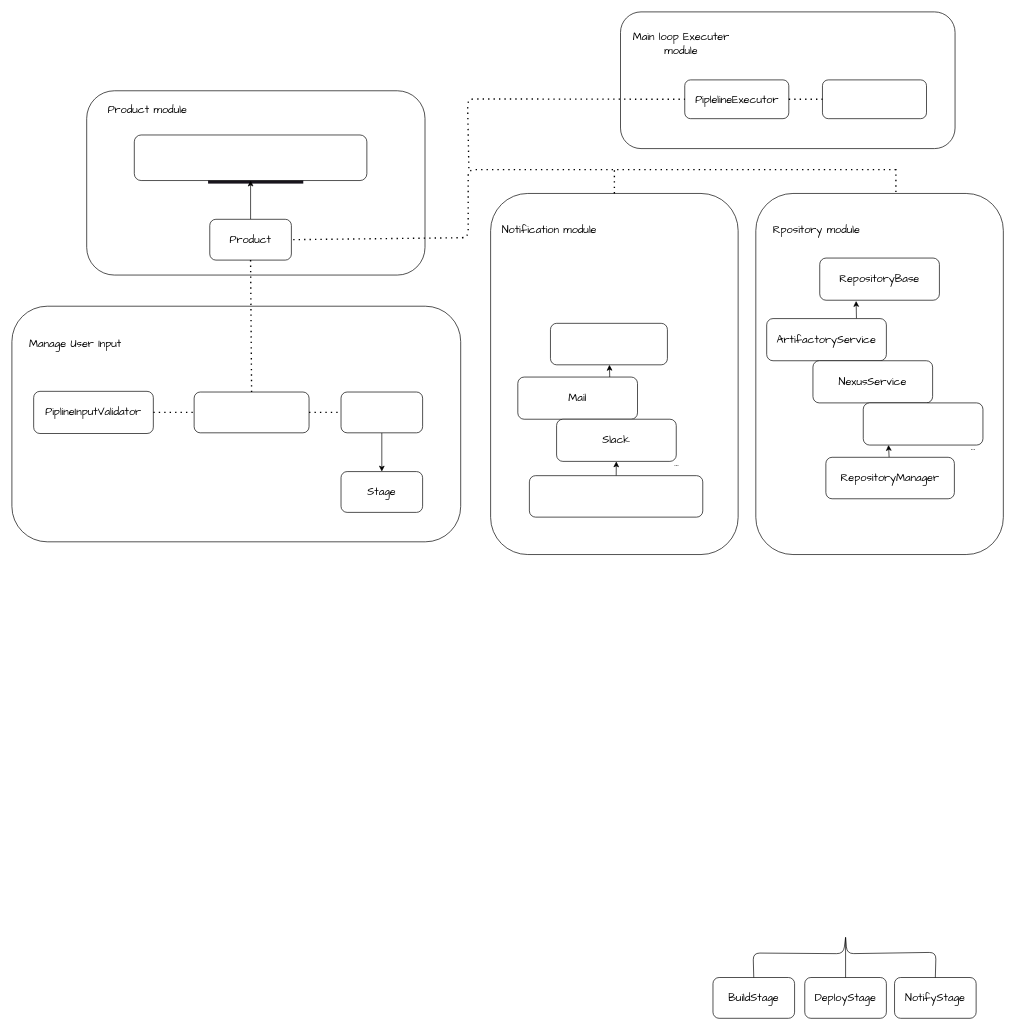
Some shapes in this 1015 by 1030 pixel diagram are drawn without their labels. Each missing label, with the centre of its shape:
<< ProductInterface >> scheduled time , build() , deploy() , notify(): pixel 250 157
CroneChecker: pixel 874 99
NotificationBase: pixel 608 344
NotificationChannelsManager: pixel 616 496
PiplelineData: pixel 251 412
S3Service: pixel 923 423
StageBase: pixel 381 412
